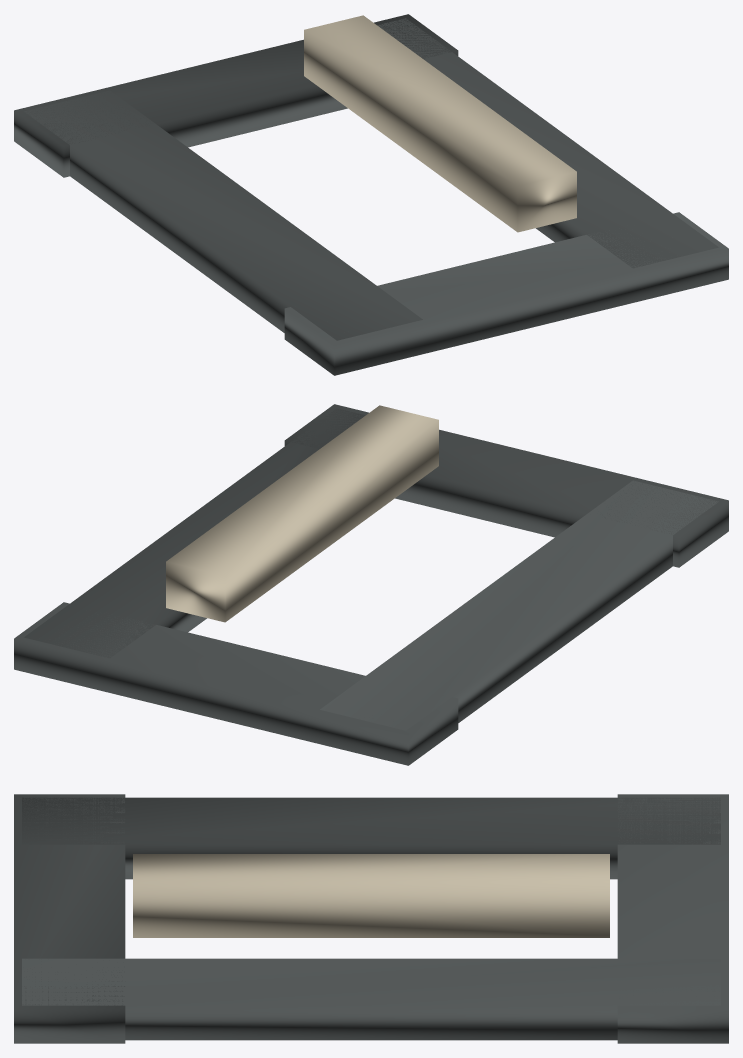
File: carabiner.glb
3 renders of one model, top to bottom at view 1: azimuth 30°, elevation 25°; view 2: azimuth 150°, elevation 25°; view 3: azimuth 270°, elevation 25°, orthographic. The views are drawn at different scales.
Visible parts, largest first — view 1: carabiner; view 2: carabiner; view 3: carabiner.
Boxes of the visible parts, <box> form: carabiner: <box>14,14,728,375</box>; carabiner: <box>14,404,728,765</box>; carabiner: <box>14,794,728,1043</box>.
Size of the model in its own units: 0.16 by 0.036 by 0.225.
